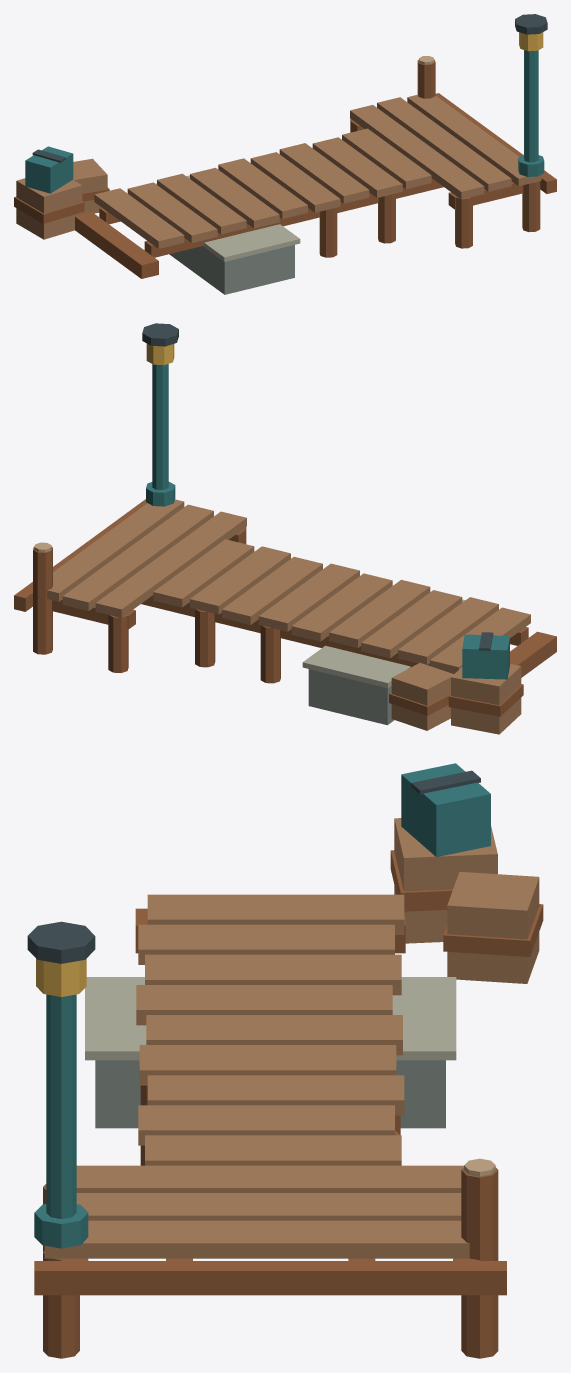
File: dock.glb
The picture shows the model from 3 angles, top to bottom: view 1: azimuth 30°, elevation 25°; view 2: azimuth 150°, elevation 25°; view 3: azimuth 270°, elevation 25°; orthographic projection. The views are drawn at different scales.
Visible parts, largest first — view 1: Dock Planks, Dock Timber, Dock Teal, Dock Stone, Dock Cut stone, Dock Iron, Dock Amber; view 2: Dock Planks, Dock Timber, Dock Teal, Dock Stone, Dock Cut stone, Dock Iron, Dock Amber; view 3: Dock Planks, Dock Timber, Dock Teal, Dock Cut stone, Dock Stone, Dock Iron, Dock Amber.
Boxes of the visible parts, x1,y1,x2,y2 form: Dock Planks: [16, 94, 541, 248]; Dock Timber: [14, 59, 556, 278]; Dock Teal: [25, 50, 544, 193]; Dock Stone: [169, 245, 294, 294]; Dock Cut stone: [155, 175, 300, 261]; Dock Iron: [32, 14, 547, 162]; Dock Amber: [519, 32, 543, 51]; Dock Planks: [47, 499, 530, 734]; Dock Timber: [14, 499, 556, 716]; Dock Teal: [146, 364, 509, 679]; Dock Stone: [308, 669, 394, 725]; Dock Cut stone: [302, 591, 465, 688]; Dock Iron: [142, 323, 493, 650]; Dock Amber: [146, 343, 174, 365]; Dock Planks: [44, 818, 539, 1258]; Dock Timber: [34, 850, 543, 1358]; Dock Teal: [34, 763, 490, 1248]; Dock Cut stone: [85, 977, 456, 1060]; Dock Stone: [95, 1060, 445, 1128]; Dock Iron: [27, 770, 480, 963]; Dock Amber: [36, 958, 86, 996].
Size of the model in its own units: 2.93 by 1.36 by 1.53.
